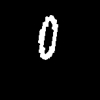chain: (38, 15, 57, 59)
